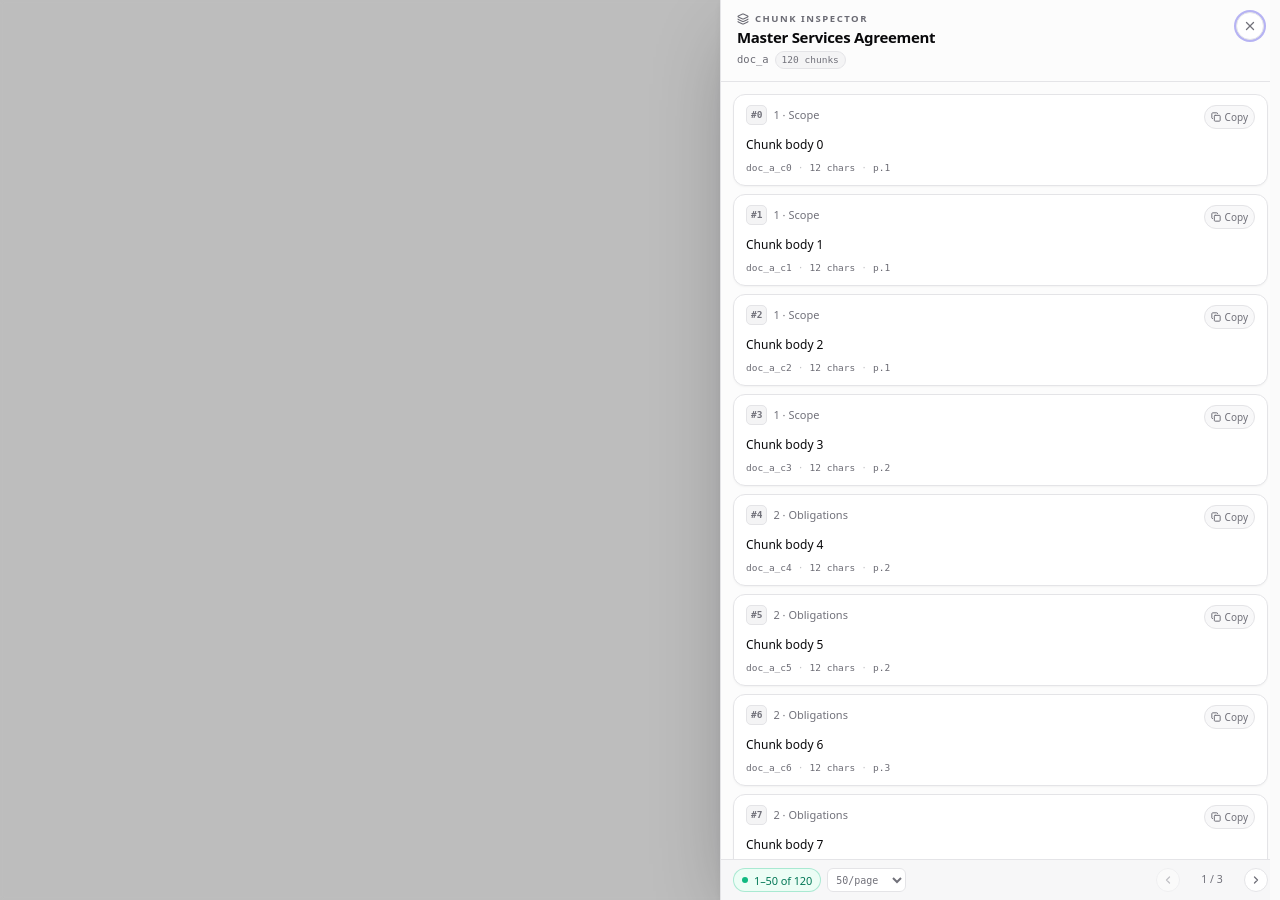
Test: ChunkDrawer › pages through chunks and disables the first back-step
expect the button named "Previous page of chunks" is disabled: met, box left=1156, top=868, right=1180, bottom=892
What coordinates should you click on to do the following:
click the button named "Next page of chunks"
I would click on:
 (1256, 880)
Its box is left=1244, top=868, right=1268, bottom=892.
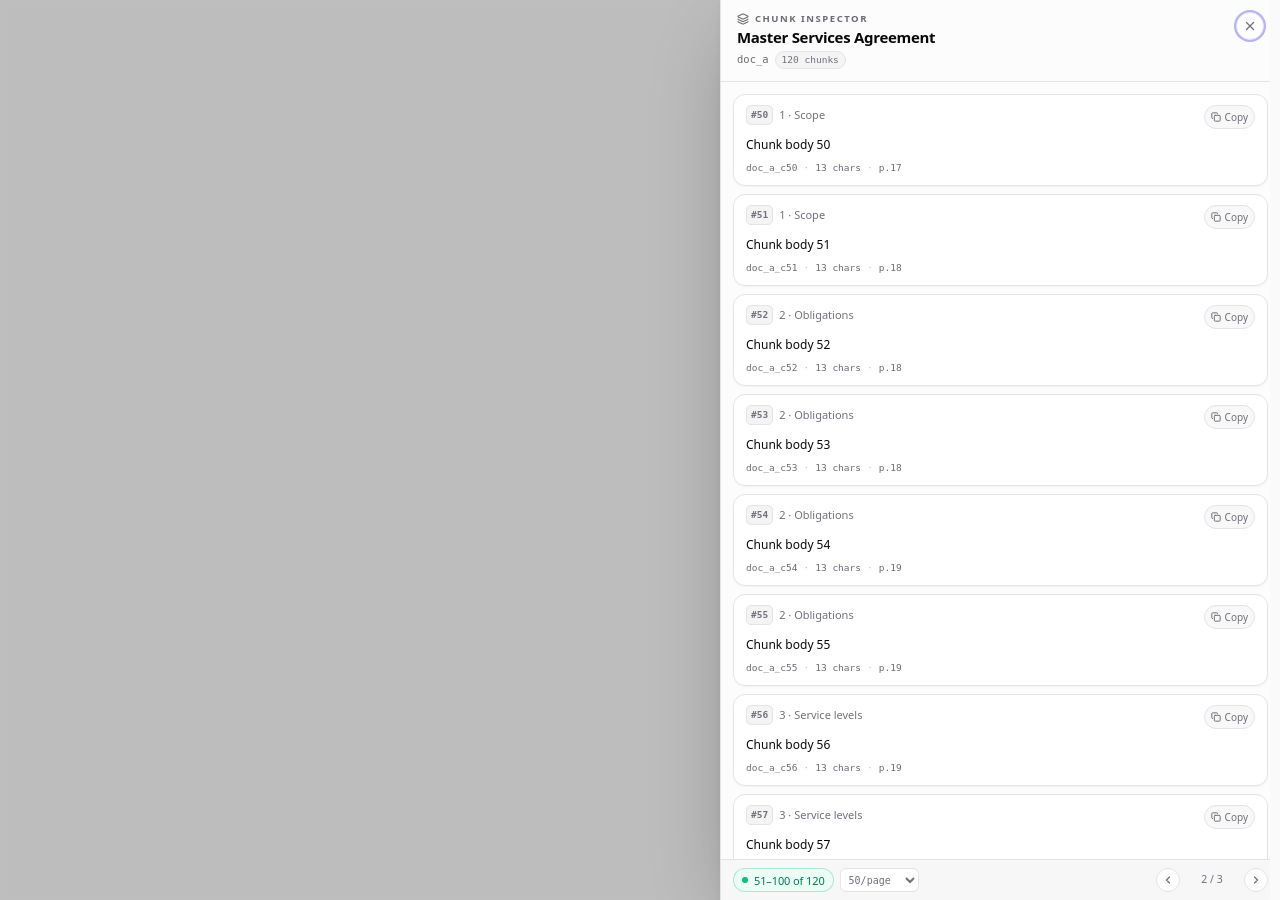
expect the text "#50" is shown: met, box left=746, top=105, right=773, bottom=125
expect the text "51–100 of 120" is shown: met, box left=754, top=874, right=825, bottom=886
expect the text "2 / 3" is shown: met, box left=1201, top=872, right=1223, bottom=886
